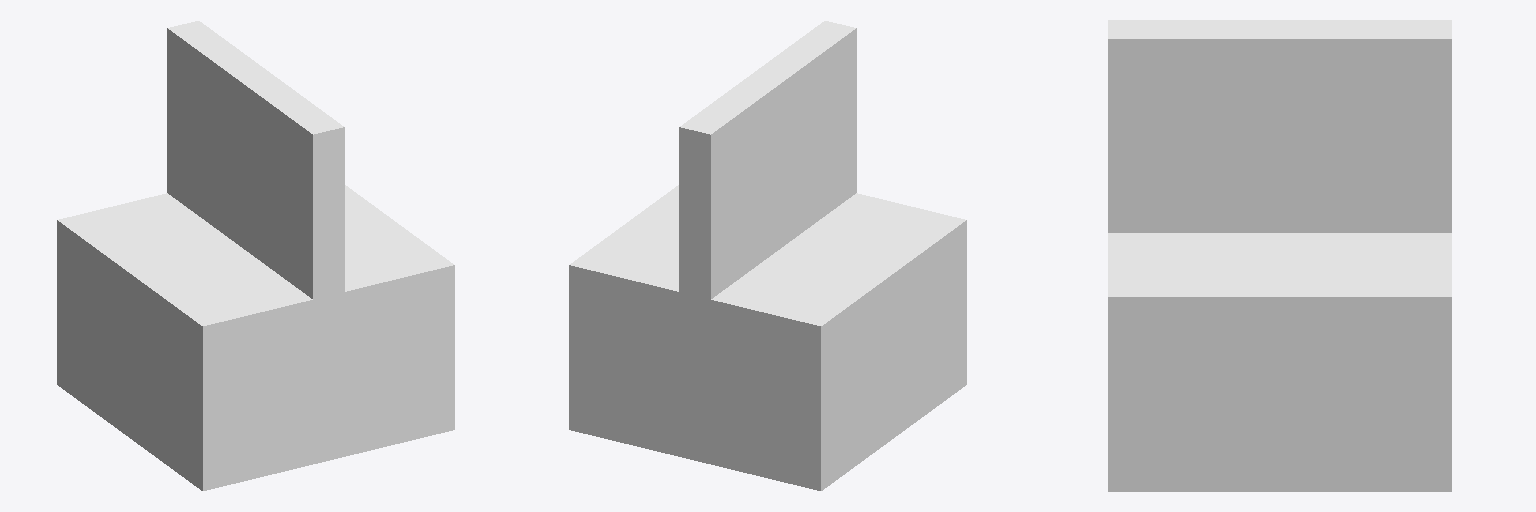
The robot description file, URDF, robot "line":
<robot name="line">
	<link name="_name">
		<visual>
			<origin rpy="0 0 0" xyz="0.0 0.0 -0.006923076923076923" />
			<geometry>
				<mesh filename="line.obj" scale=".001 .001 .001" />
			</geometry>
			<material name="texture">
				<color rgba="1.0 1.0 1.0 1.0" />
			</material>
		</visual>
		<collision>
			<geometry>
				<mesh filename="line_vhacd.obj" scale=".001 .001 .001" />
			</geometry>
		<origin rpy="0 0 0" xyz="0.0 0.0 -0.006923076923076923" /></collision>
		<inertial>
			<mass value="1.0" />
			<inertia ixx="1.0" ixy="0.0" ixz="0.0" iyy="1.0" iyz="0.0" izz="1.0" />
		</inertial>
	</link>
</robot>

--- What the picture shows (computed from the rendered views, not written in the file) ---
Views: 3 orthographic renders of the robot side by side, from view 1: azimuth 30°, elevation 25°; view 2: azimuth 150°, elevation 25°; view 3: azimuth 270°, elevation 25°.
Model line with 1 links and 0 joints (none), rooted at _name, posed every joint at zero.
Visible links, largest first — view 1: _name; view 2: _name; view 3: _name.
Link boxes in pixels (x1,y1,x2,y2): _name: [57, 21, 454, 490]; _name: [569, 21, 966, 490]; _name: [1108, 20, 1451, 491].
Bounding box of the posed robot: 0.016 × 0.016 × 0.02 m (x, y, z).
Meshes: 1 distinct files referenced, 1 mesh visuals loaded (1 OBJ).